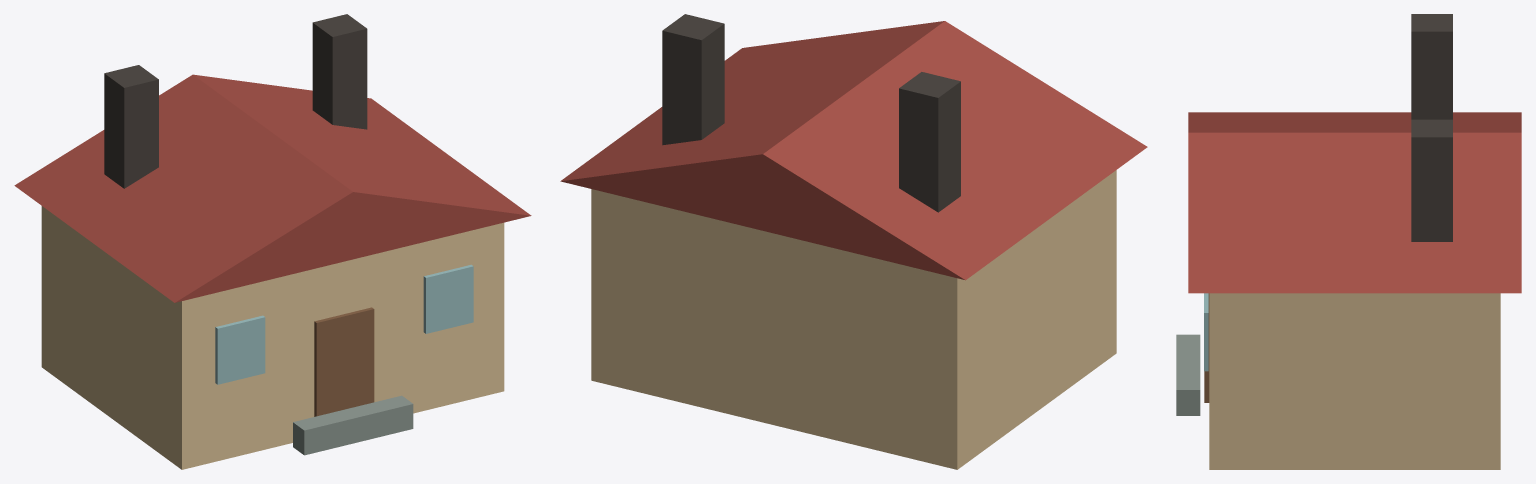
The model's file is bld_factory.glb.
3 renders of one model, left to right at view 1: azimuth 30°, elevation 25°; view 2: azimuth 150°, elevation 25°; view 3: azimuth 270°, elevation 25°, orthographic. The views are drawn at different scales.
Parts seen in each view (by area): view 1: bld_factory; view 2: bld_factory; view 3: bld_factory.
Part boxes in pixels (bbox=[...]): bld_factory: bbox=[14, 14, 531, 469]; bld_factory: bbox=[560, 14, 1147, 469]; bld_factory: bbox=[1176, 14, 1521, 469].
Bounding box in the file's own units: 3.6 × 2.9 × 2.9.
Materials: 1 (1 with a texture image).
